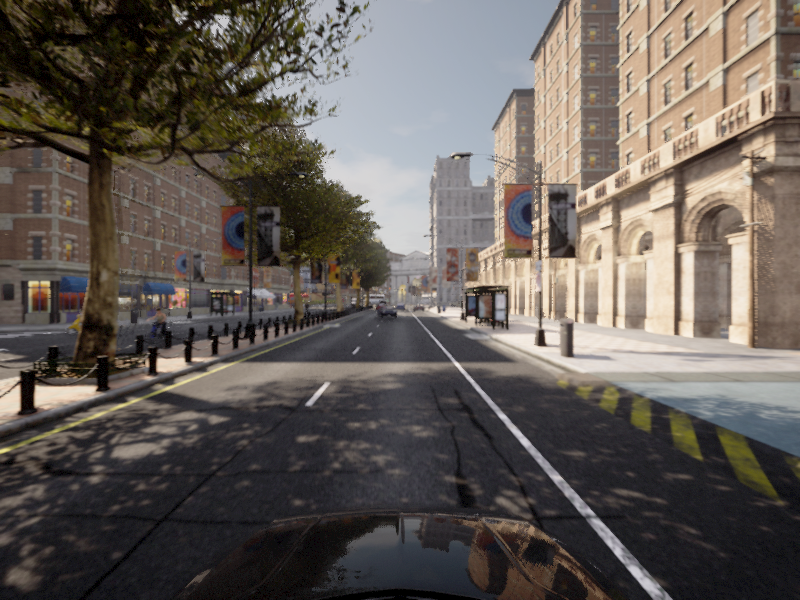vehicle: (138, 307, 176, 343), (64, 306, 108, 335), (376, 305, 397, 318)
